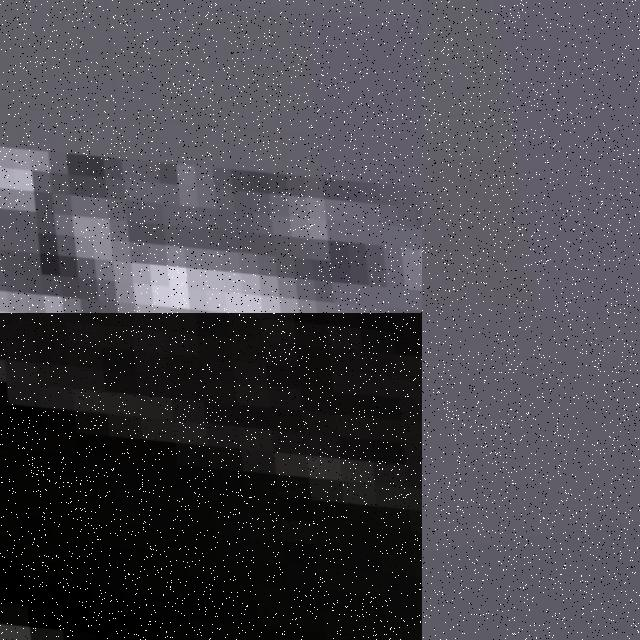0: (0, 0, 422, 313)
drone: (0, 313, 422, 640)
